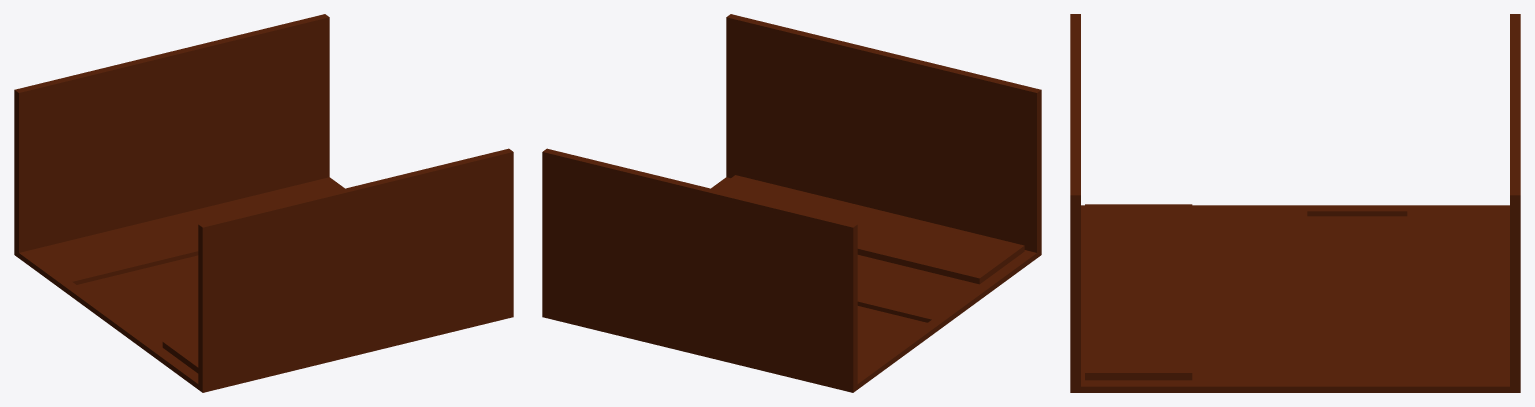
File: muri_01.fbx
The picture shows the model from 3 angles, left to right: view 1: azimuth 30°, elevation 25°; view 2: azimuth 150°, elevation 25°; view 3: azimuth 270°, elevation 25°; orthographic projection. The views are drawn at different scales.
Visible parts, largest first — view 1: Cube; view 2: Cube; view 3: Cube.
Part boxes in pixels (bbox=[...]): Cube: bbox=[14, 14, 513, 392]; Cube: bbox=[542, 14, 1041, 392]; Cube: bbox=[1070, 14, 1520, 392].
Bounding box in the file's own units: 3000 × 1525 × 3150.
